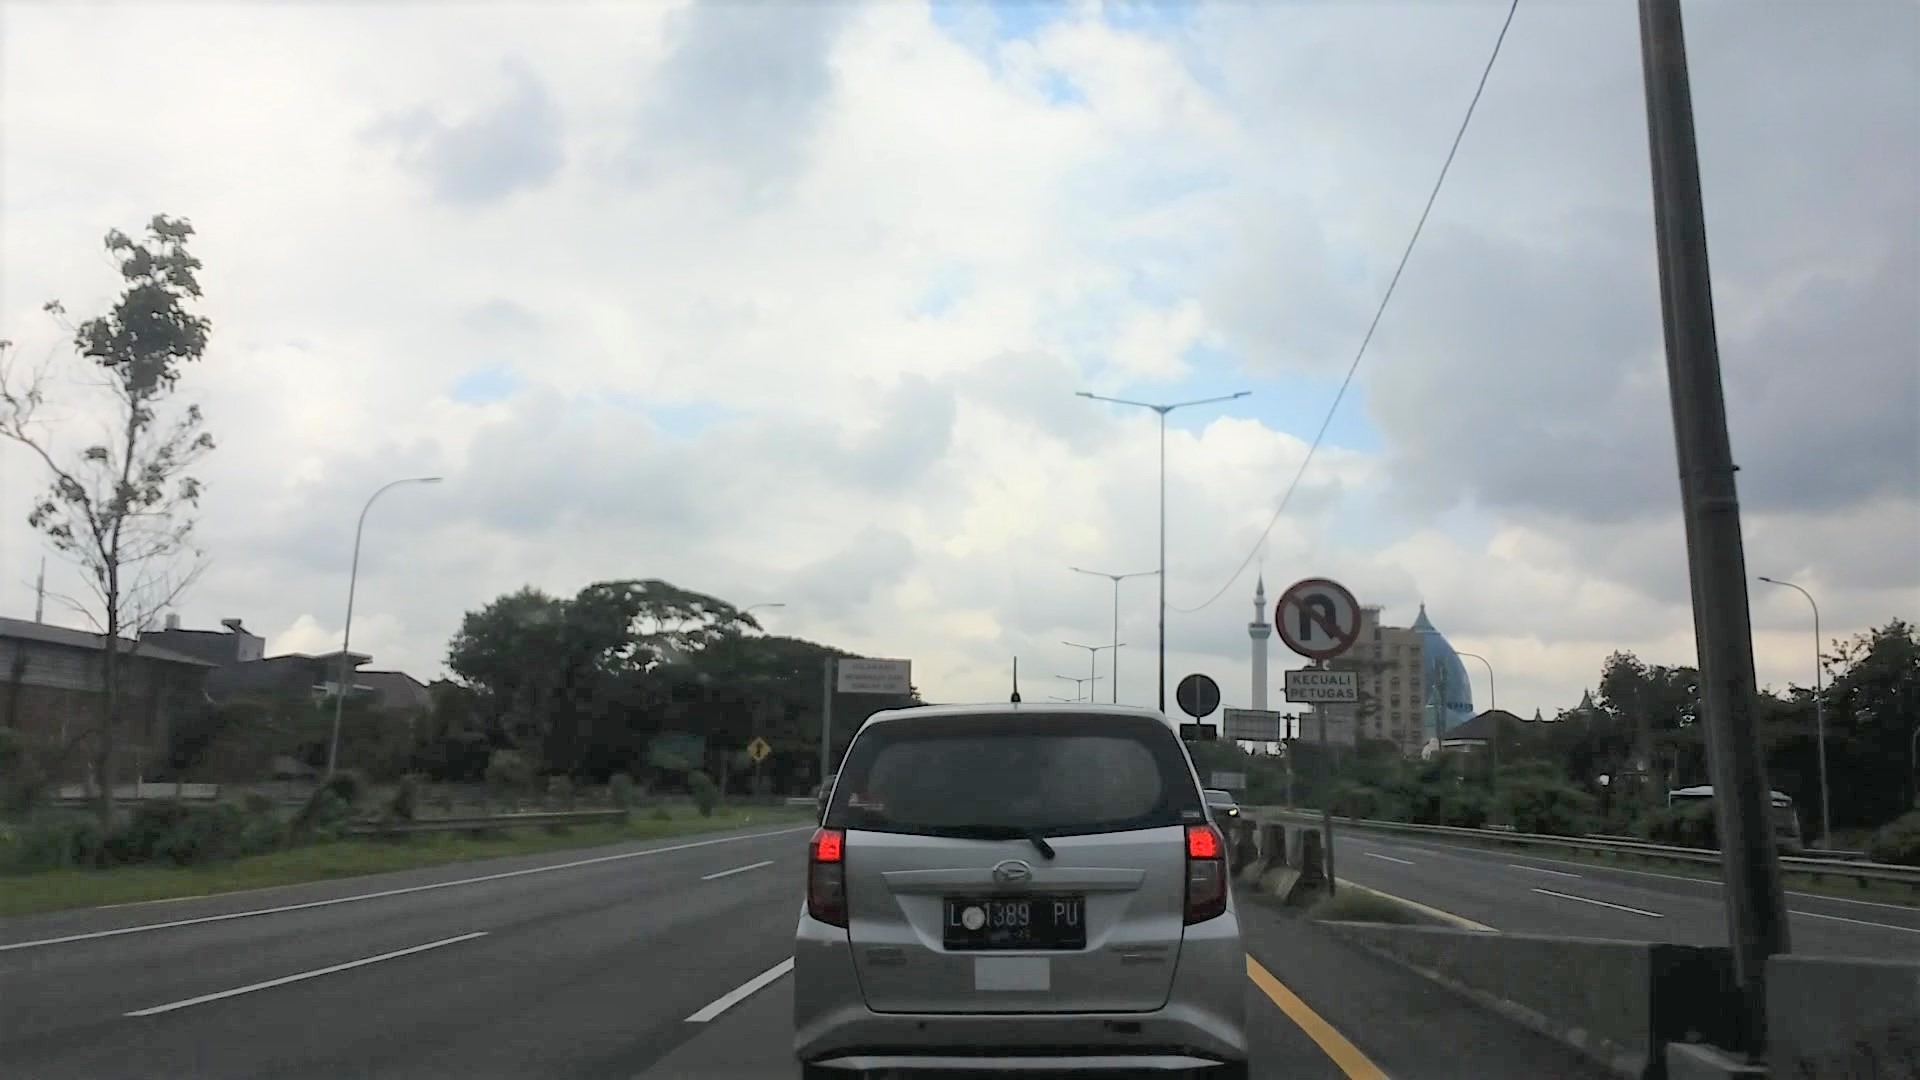plate_positive: (943, 891, 1087, 949)
